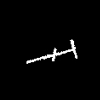double_crochet: (27, 40, 76, 63)
